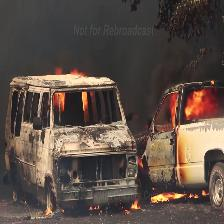fire: (123, 151, 224, 214), (142, 82, 224, 130), (47, 65, 109, 121)
